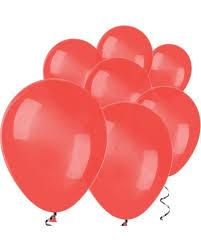red: (2, 79, 109, 224), (93, 102, 170, 227), (140, 88, 200, 172), (87, 58, 151, 100), (44, 39, 101, 81), (145, 44, 192, 92), (97, 26, 151, 65)
